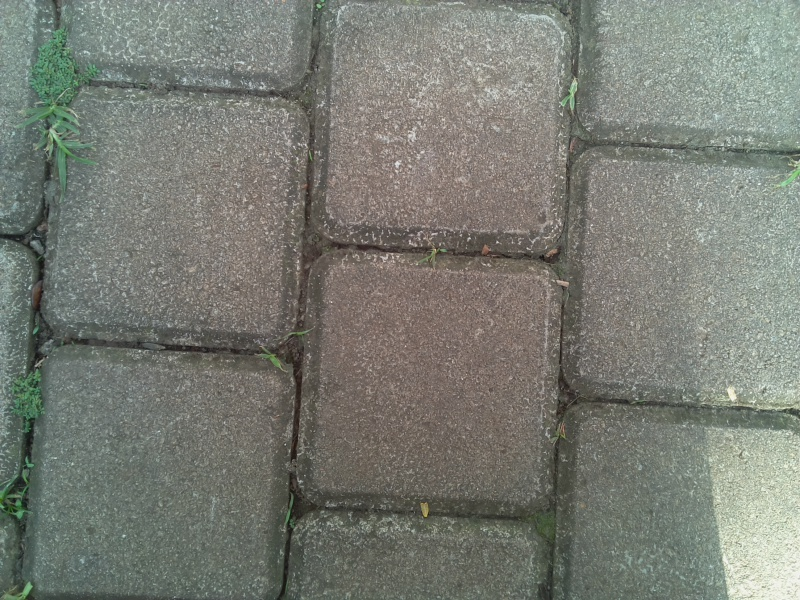Weed: (22, 98, 95, 187), (29, 28, 96, 107), (248, 321, 310, 378), (5, 368, 53, 436), (1, 456, 41, 535), (410, 242, 453, 274), (554, 74, 586, 115), (274, 491, 302, 532)
